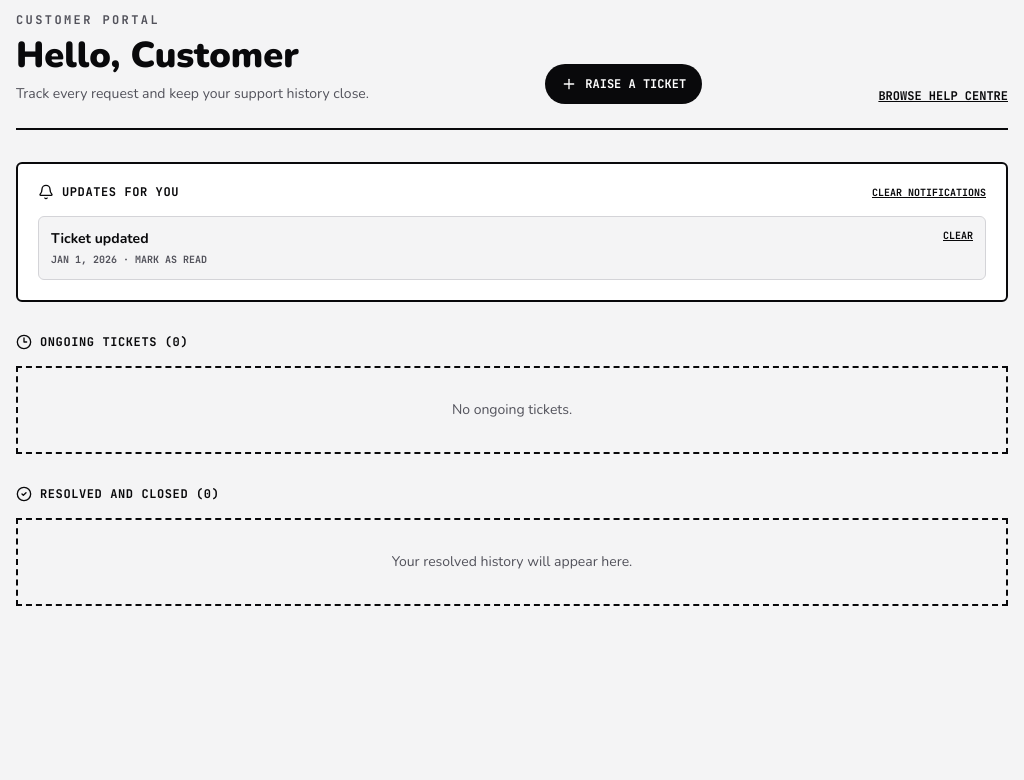
Customer portal › shows a failed notification deletion
Click the button with aria-label "Clear notification: Ticket updated" at [958, 236], box top-left (943, 229), bottom-right (973, 243)
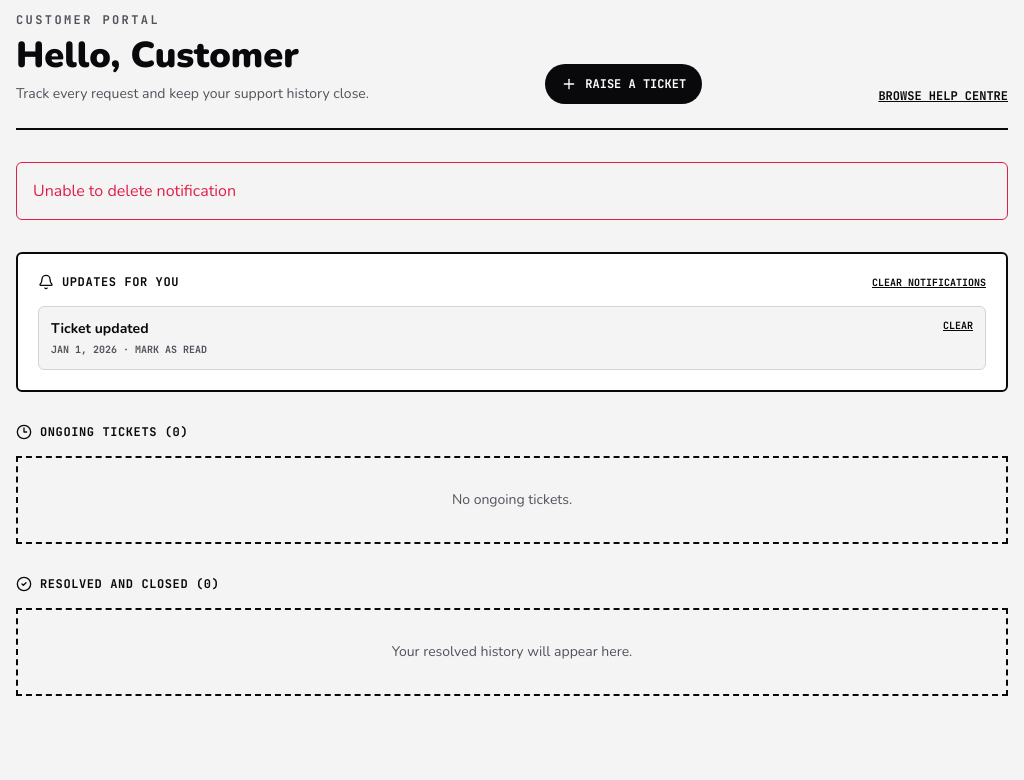
Expected: the message reads "Unable to delete notification", top-left (33, 180), bottom-right (236, 202)
